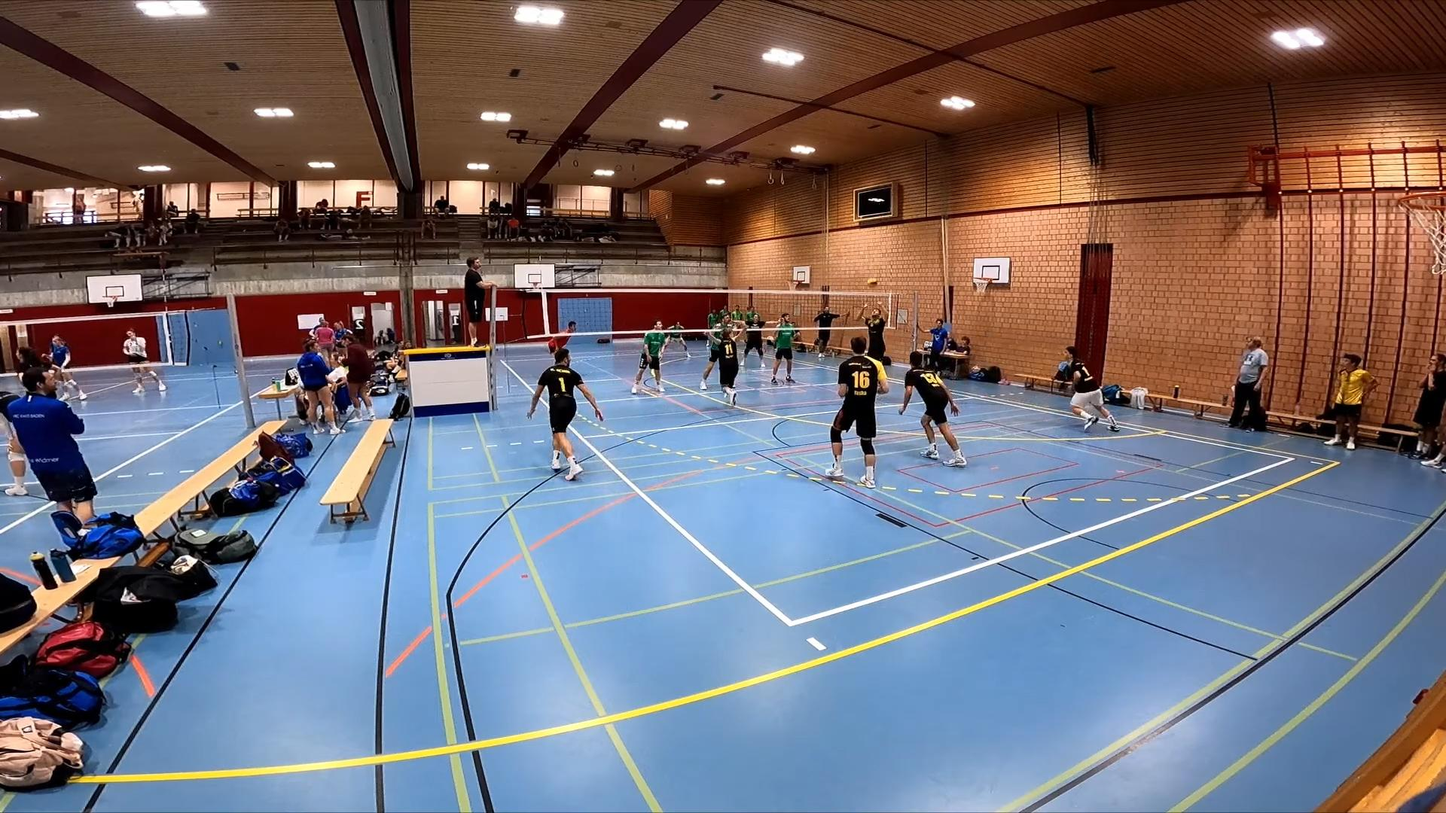Player: (527, 349, 602, 480), (825, 336, 888, 488), (899, 351, 966, 466), (1066, 346, 1119, 431), (631, 319, 666, 393), (699, 316, 732, 390), (771, 314, 797, 384), (718, 324, 740, 405), (743, 309, 766, 368), (665, 321, 690, 358), (547, 321, 576, 352)
Set: (854, 300, 893, 360)
ball: (861, 274, 883, 293)
